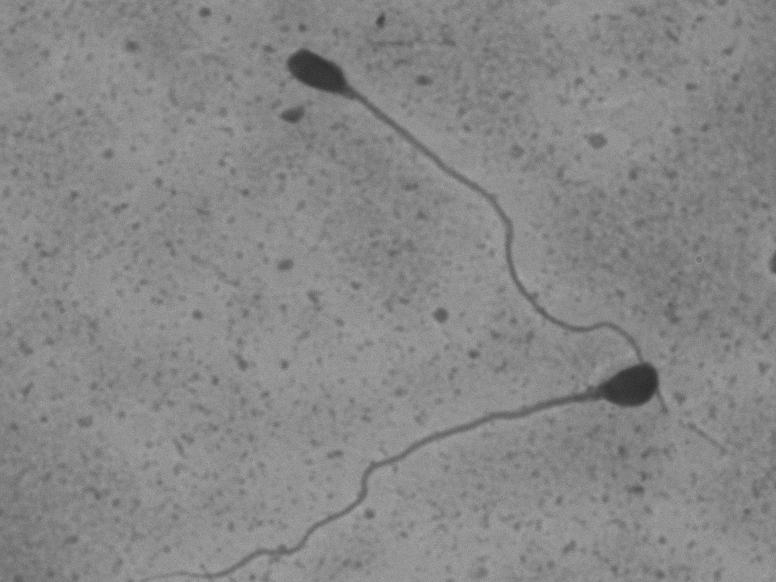Abnormal: (278, 30, 659, 364), (188, 358, 666, 579)
